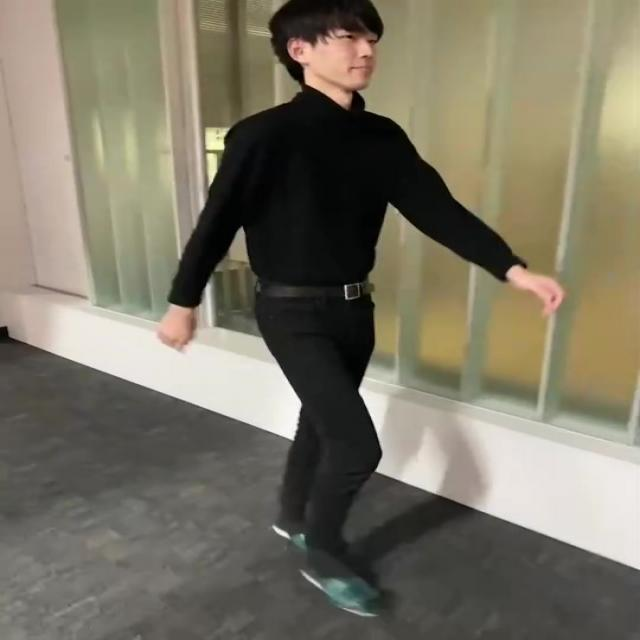direk: (152, 2, 564, 626)
